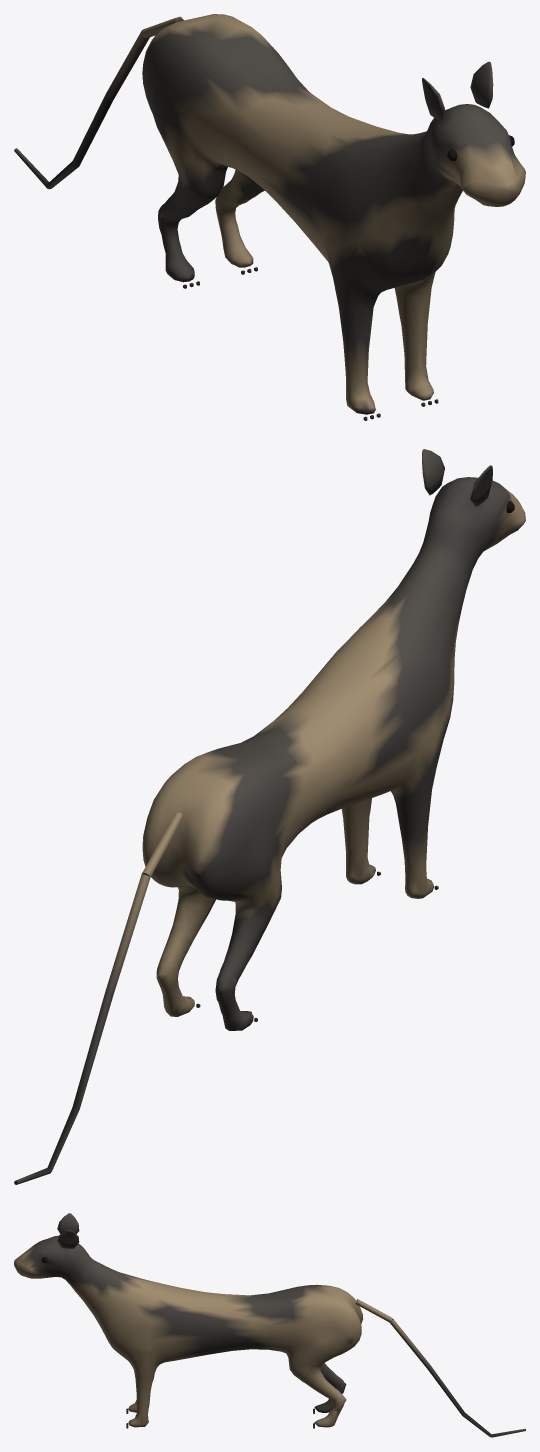
File: katze.glb
The picture shows the model from 3 angles, top to bottom: view 1: azimuth 30°, elevation 25°; view 2: azimuth 150°, elevation 25°; view 3: azimuth 270°, elevation 25°; orthographic projection. The views are drawn at different scales.
Parts seen in each view (by area): view 1: lack; view 2: lack; view 3: lack.
Boxes of the visible parts, x1,y1,x2,y2 form: lack: (14,14,525,420); lack: (14,449,525,1184); lack: (14,1213,525,1437).
Bounding box in the file's own units: 0.1109 × 0.4136 × 0.8897.
